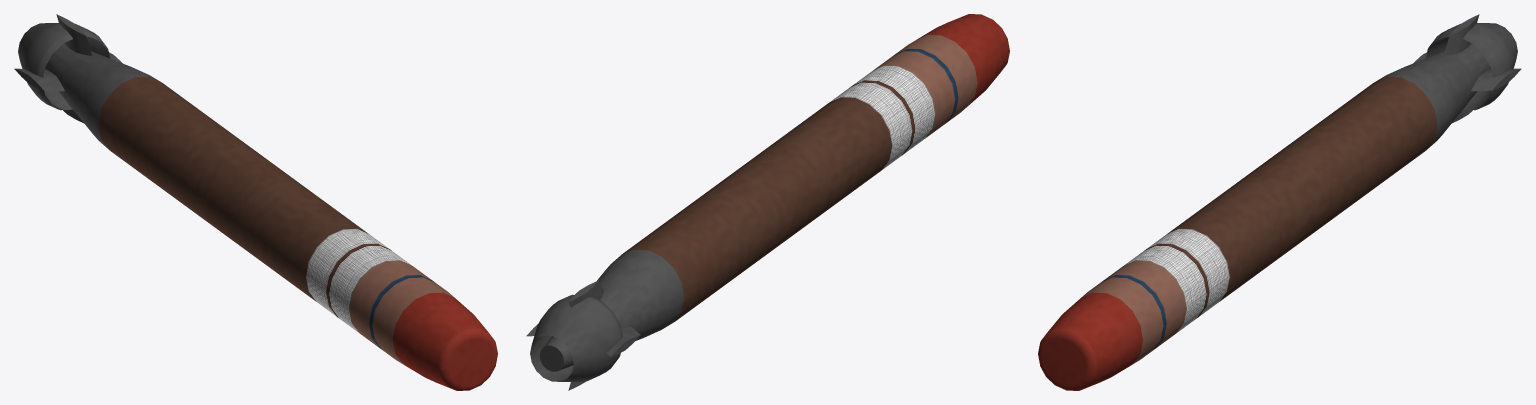
The model's file is mk46_torpedo_v2.fbx.
3 renders of one model, left to right at view 1: azimuth 30°, elevation 25°; view 2: azimuth 150°, elevation 25°; view 3: azimuth 330°, elevation 25°, orthographic.
Visible parts, largest first — view 1: Object001; view 2: Object001; view 3: Object001.
Part boxes in pixels (x1,y1,x2,y2): Object001: [14, 14, 497, 390]; Object001: [526, 14, 1009, 390]; Object001: [1038, 14, 1521, 390].
Bounding box in the file's own units: 0.4198 × 3.71 × 0.4198.
1 material, 1 textured.
